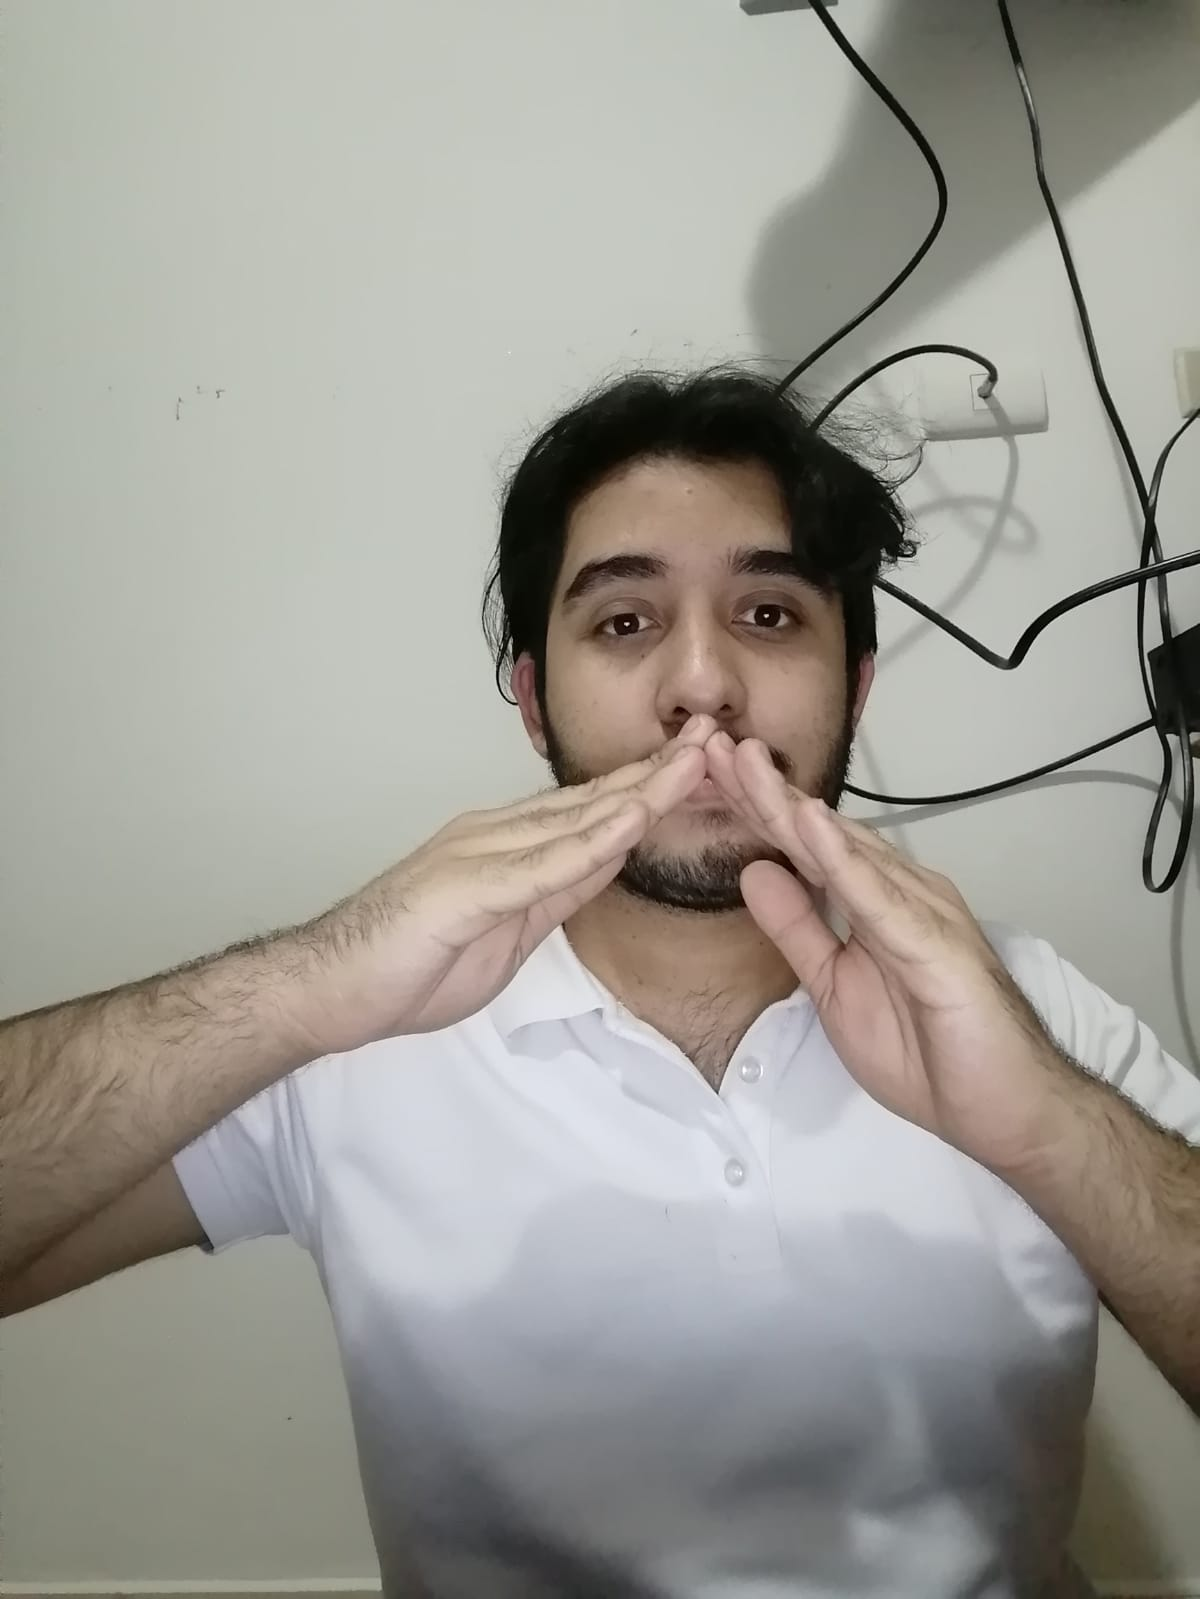House: (313, 708, 1084, 1168)
